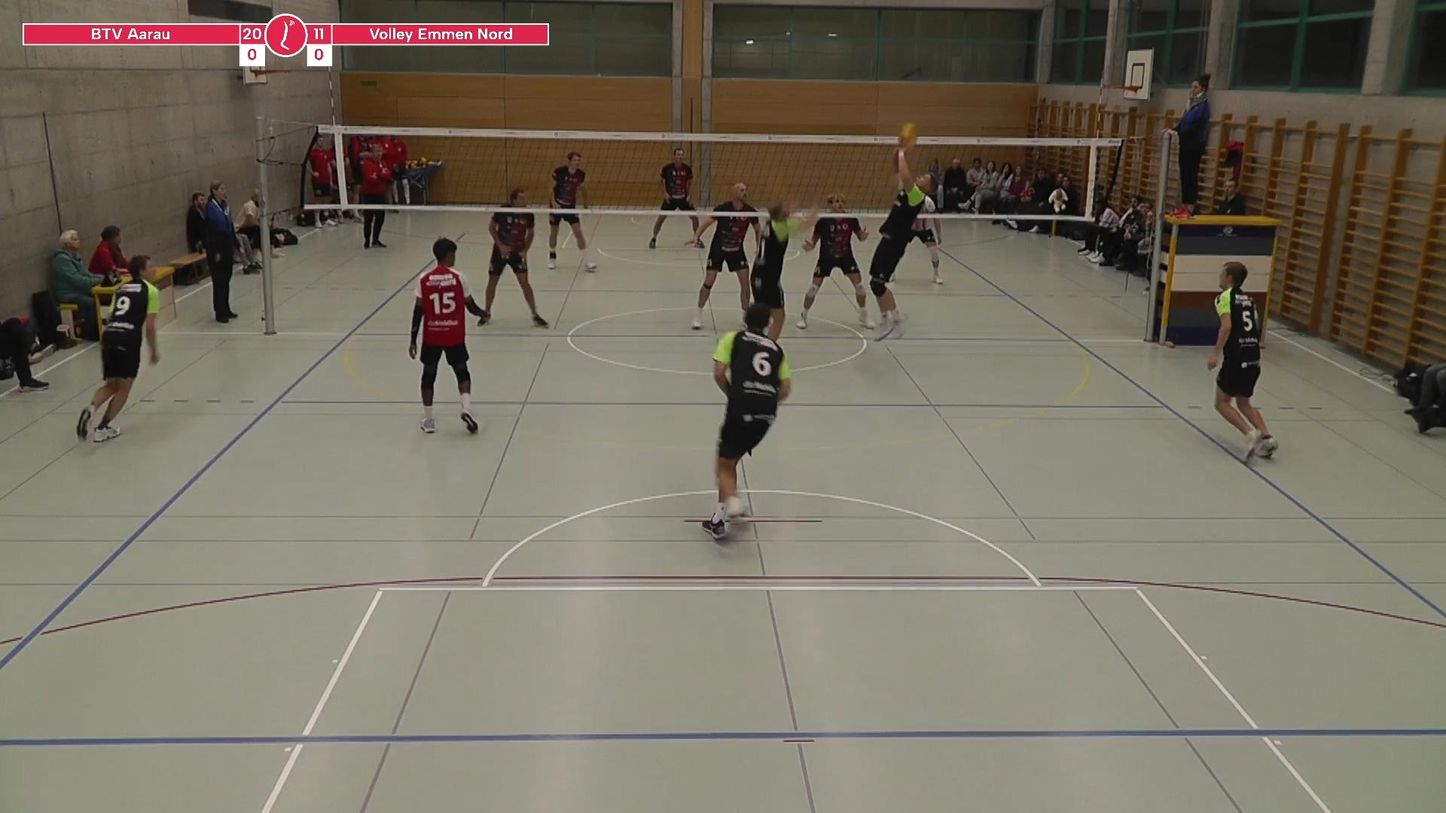Player: (703, 303, 790, 541), (77, 255, 159, 443), (408, 238, 484, 433), (1207, 262, 1277, 460), (685, 183, 761, 329), (751, 202, 817, 341), (797, 217, 874, 329), (478, 212, 548, 327), (660, 148, 698, 231), (548, 213, 596, 272), (914, 196, 943, 285)
Set: (864, 149, 940, 341)
ball: (894, 121, 923, 148)
